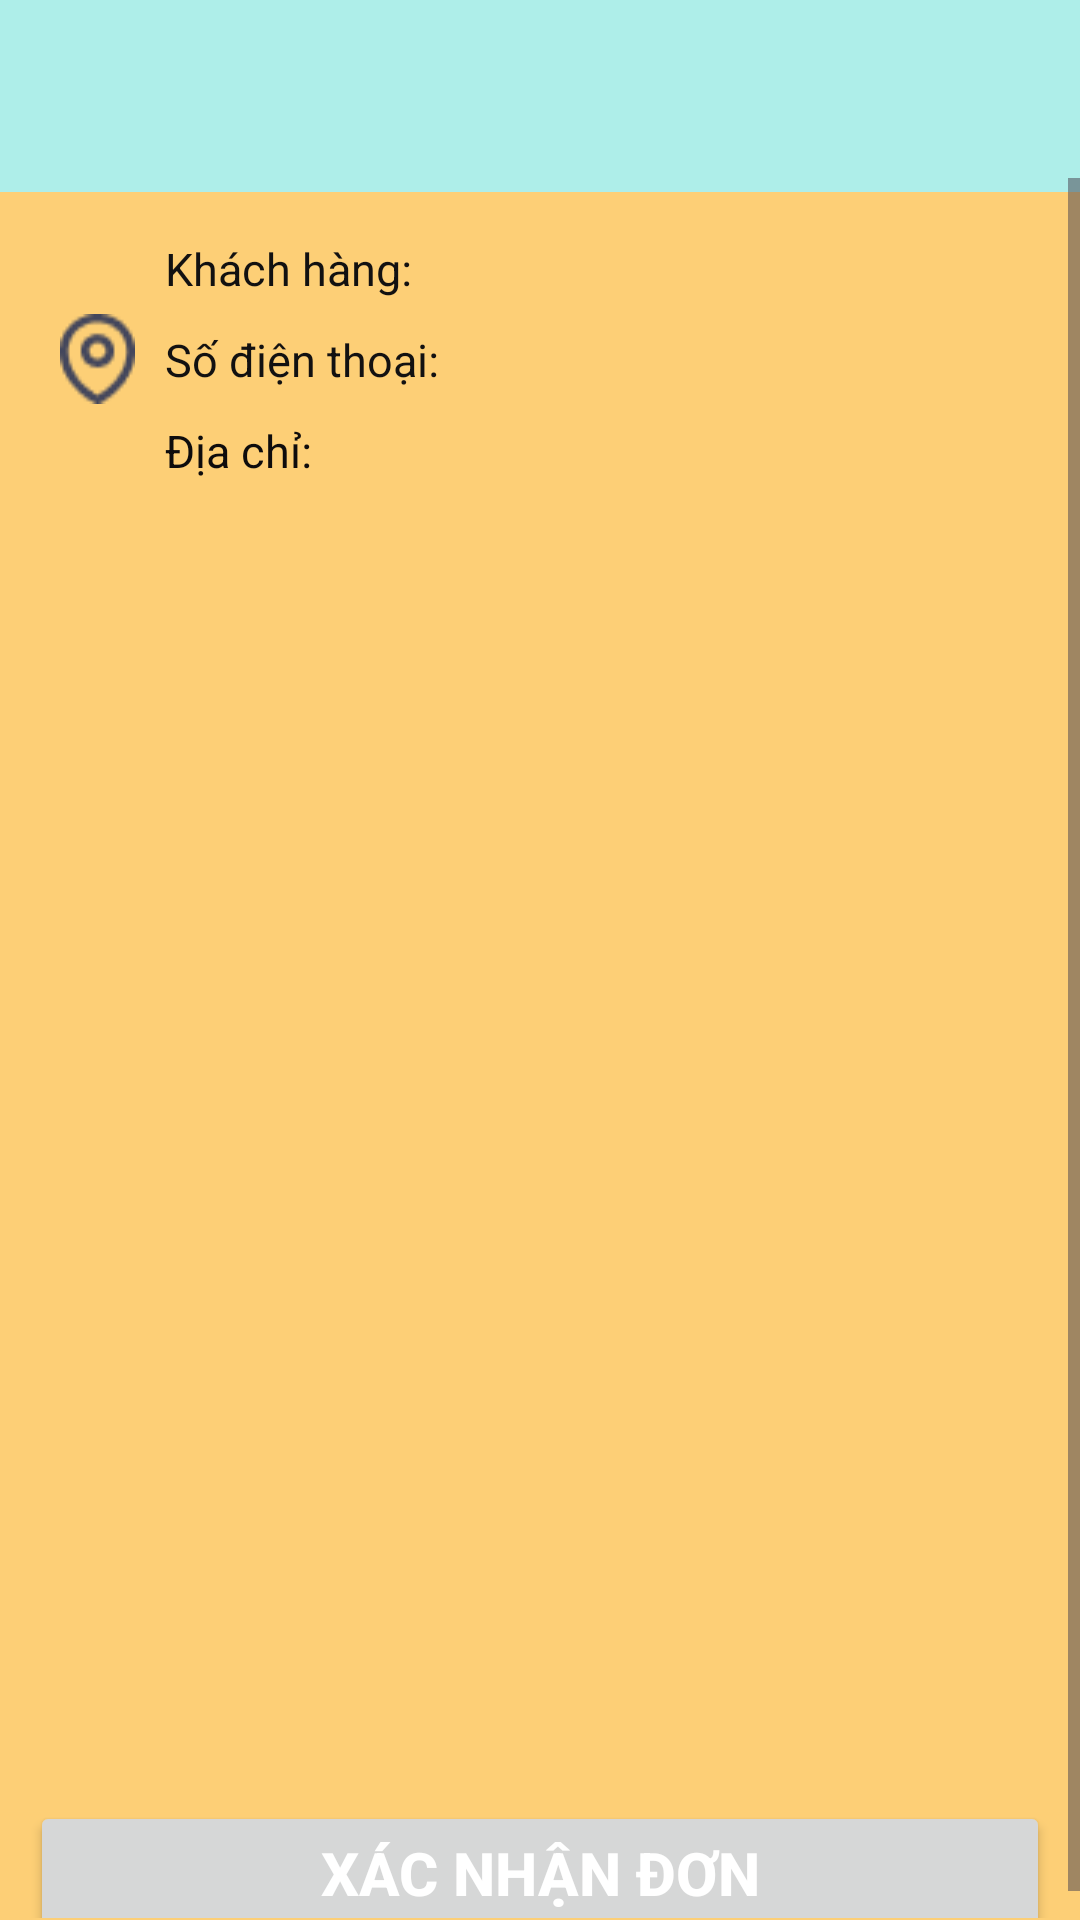

Point at icon controls on the screen. Image size 1080x1920, points as [x,y].
location: [97,359]
